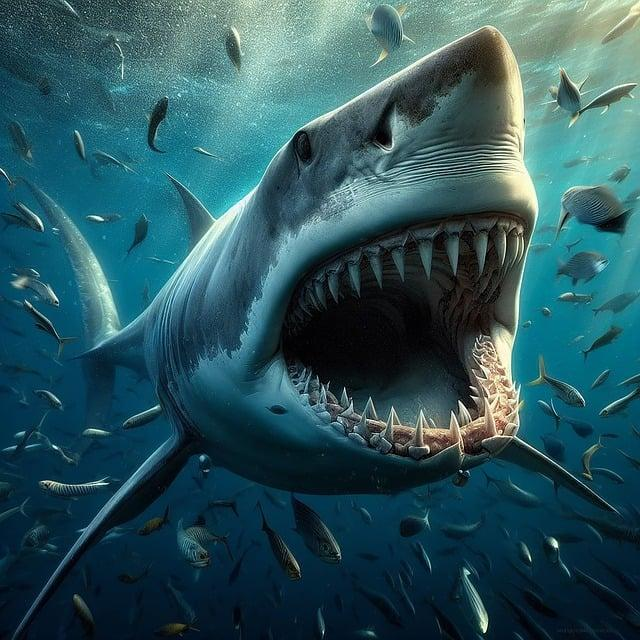Carnivorous: (16, 28, 538, 640)
